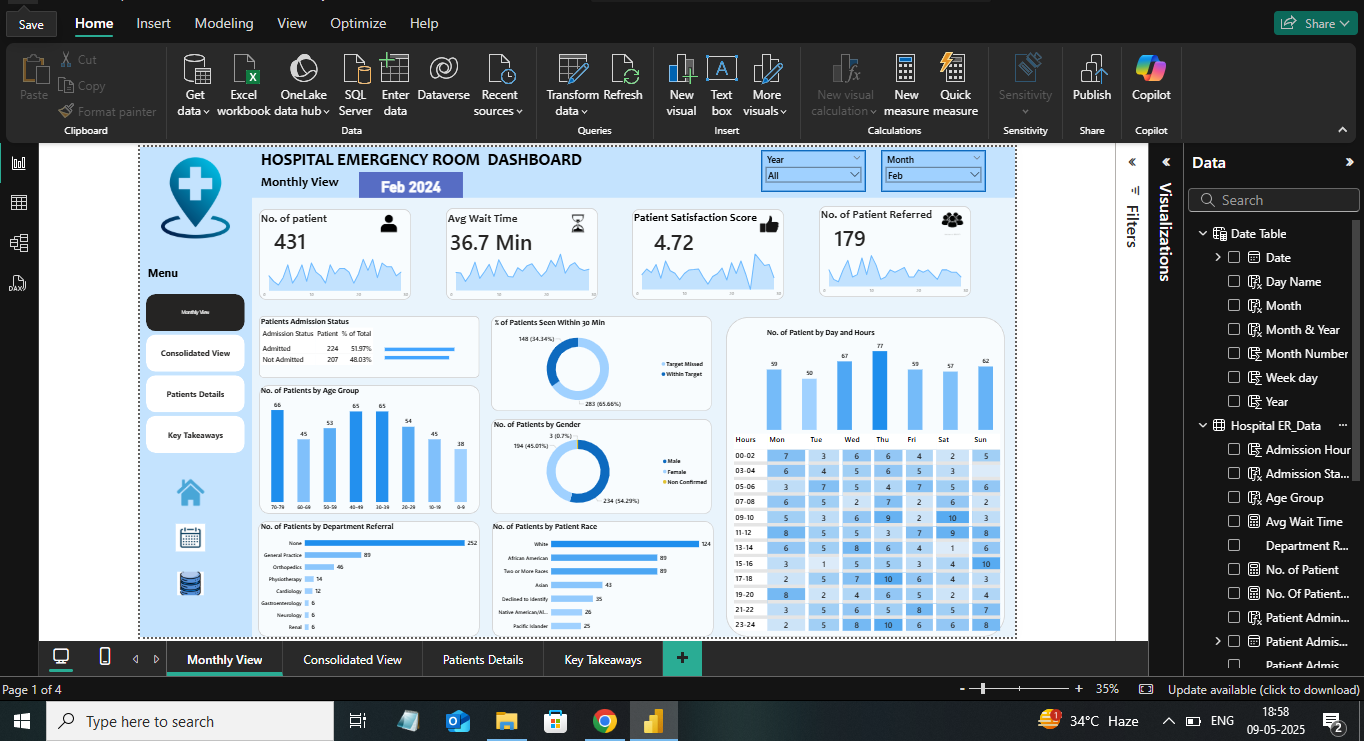

The page's visual inventory and layout, read from the dashboard file:
{"tool":"powerbi","page":{"name":"Monthly View","canvas":[2500,1400],"ordinal":0},"visuals":[{"type":"shape","box":[1674.3,485.7,797.1,914.3],"z":0},{"type":"shape","box":[0,0,320,1400],"z":1000},{"type":"shape","box":[320,0,2180,145],"z":2000},{"type":"shape","box":[1406.7,177.1,434.3,260],"z":4000},{"type":"shape","box":[340,177.1,434.3,260],"z":5000},{"type":"shape","box":[873.3,174.3,434.3,262.9],"z":6000},{"type":"card","fields":{"Values":["Hospital ER_Data.NO Of Patient"]},"box":[340,220,177.1,88.6],"z":7000},{"type":"textbox","box":[340,180,217.1,48.6],"z":9000},{"type":"areaChart","fields":{"Category":["Date Table.Date.Variation.Date Hierarchy.Day"]},"box":[320,291.4,434.3,145.7],"z":10000},{"type":"card","fields":{"Values":["Min(Date Table.Month & Year)"]},"box":[625.7,71.4,297.1,74.3],"z":12000},{"type":"card","fields":{"Values":["Hospital ER_Data.Avg. Wait Time"]},"box":[874.3,228.6,257.1,80],"z":14000},{"type":"textbox","box":[874.3,180,220,48.6],"z":15000},{"type":"card","fields":{"Values":["Hospital ER_Data.Satisfaction Score"]},"box":[1405.7,222.9,240,88.6],"z":16000},{"type":"textbox","box":[1405.7,177.1,374.3,51.4],"z":17000},{"type":"areaChart","fields":{"Y":["Hospital ER_Data.Satisfaction Score"],"Category":["Date Table.Date.Variation.Date Hierarchy.Day"]},"box":[1405.7,291.4,434.3,145.7],"z":18000},{"type":"shape","box":[1940,168.6,434.3,260],"z":19000},{"type":"card","fields":{"Values":["Hospital ER_Data.No. Of Patient Referred"]},"box":[1940,211.4,177.1,88.6],"z":20000},{"type":"textbox","box":[1940,168.6,342.9,51.4],"z":21000},{"type":"areaChart","fields":{"Category":["Date Table.Date.Variation.Date Hierarchy.Day"],"Y":["Hospital ER_Data.No. Of Patient Referred"]},"box":[1940,282.9,434.3,145.7],"z":22000},{"type":"areaChart","fields":{"Y":["Hospital ER_Data.No. of Patient"],"Category":["Date Table.Date.Variation.Date Hierarchy.Day"]},"box":[340,291.4,434.3,148.6],"z":23000},{"type":"areaChart","fields":{"Category":["Date Table.Date.Variation.Date Hierarchy.Day"],"Y":["Divide(Sum(Hospital ER_Data.Patient Waittime), ScopedEval(Sum(Hospital ER_Data.Patient Waittime), []))"]},"box":[874.3,291.4,437.1,148.6],"z":24000},{"type":"shape","box":[340,482.9,630,177],"z":25000},{"type":"pivotTable","title":"Patients Admission Status","fields":{"Rows":["Hospital ER_Data.Admission Status"],"Values":["Hospital ER_Data.No. of Patient1","Hospital ER_Data.No. of Patient"]},"box":[340,482.9,631.4,177.1],"z":26000},{"type":"shape","box":[340,680,631.4,368.6],"z":27000},{"type":"barChart","fields":{"Category":["Hospital ER_Data.Admission Status"],"Y":["Hospital ER_Data.No. of Patient"]},"box":[694.3,548.6,277.1,77.1],"z":28000},{"type":"shape","box":[337.1,1068.6,634.3,331.4],"z":29000},{"type":"clusteredColumnChart","title":"No. of Patients  by Age Group","fields":{"Category":["Hospital ER_Data.Age Group"],"Y":["Hospital ER_Data.No. of Patient"]},"box":[340,680,631.4,368.6],"z":30000},{"type":"shape","box":[1002.9,482.9,631,271],"z":31000},{"type":"clusteredBarChart","title":"No. of Patients by Department Referral","fields":{"Category":["Hospital ER_Data.Department Referral"],"Y":["Hospital ER_Data.No. of Patient"]},"box":[340,1068.6,631.4,331.4],"z":32000},{"type":"donutChart","title":"% of Patients Seen Within 30 Min","fields":{"Y":["Hospital ER_Data.No. of Patient"],"Category":["Hospital ER_Data.Waittime Status"]},"box":[1008.6,485.7,614.3,268.6],"z":33000},{"type":"shape","box":[1002.9,777.1,631.4,271.4],"z":34000},{"type":"shape","box":[1005.7,1068.6,634.3,331.4],"z":35000},{"type":"donutChart","title":"No. of Patients by Gender","fields":{"Y":["Hospital ER_Data.No. of Patient"],"Category":["Hospital ER_Data.Patient Gender"]},"box":[1005.7,777.1,628.6,271.4],"z":36000},{"type":"clusteredBarChart","title":"No. of Patients by Patient Race","fields":{"Y":["Hospital ER_Data.No. of Patient"],"Category":["Hospital ER_Data.Patient Race"]},"box":[1002.9,1068.6,634.3,331.4],"z":37000},{"type":"pivotTable","fields":{"Rows":["Hospital ER_Data.Waittime Interval"],"Columns":["Date Table.Day Name"],"Values":["Hospital ER_Data.No. of Patient"]},"box":[1691.4,814.3,780,585.7],"z":38000},{"type":"columnChart","title":"No. of Patient by Day and Hours","fields":{"Category":["Date Table.Day Name"],"Y":["Hospital ER_Data.No. of Patient"]},"box":[1785.7,514.3,660,300],"z":38001},{"type":"textbox","box":[340,0,942.9,71.4],"z":38002},{"type":"textbox","box":[340,71.4,285.7,74.3],"z":38003},{"type":"image","box":[37.1,22.9,242.9,245.7],"z":38004},{"type":"slicer","fields":{"Values":["Date Table.Year"]},"box":[1774.3,8.6,300,120],"z":38005},{"type":"slicer","fields":{"Values":["Date Table.Month"]},"box":[2117.1,8.6,300,120],"z":38006},{"type":"pageNavigator","box":[17.1,420,282.9,454.3],"z":38007},{"type":"textbox","box":[17.1,331.4,117.1,54.3],"z":38008},{"type":"image","box":[77.1,925.7,134.3,122.9],"z":38009},{"type":"image","box":[97.1,1068.6,94.3,94.3],"z":38010},{"type":"image","box":[97.1,1208.6,94.3,77.1],"z":38011},{"type":"image","box":[1757.1,180,82.9,80],"z":38014},{"type":"image","box":[668.6,180,85.7,82.9],"z":38015},{"type":"image","box":[1205.7,174.3,91.4,88.6],"z":38016},{"type":"image","box":[2268.6,165.7,105.7,91.4],"z":38017}]}

Visuals, with their boxes on the page's 2500x1400 design canvas (x1, y1, x2, y2). These are canvas units, not pixel positions in the 1364x741 screenshot, which may show the page scaled, cropped or inside an application window:
shape: [left=1674, top=486, right=2471, bottom=1400]
shape: [left=0, top=0, right=320, bottom=1400]
shape: [left=320, top=0, right=2500, bottom=145]
shape: [left=1407, top=177, right=1841, bottom=437]
shape: [left=340, top=177, right=774, bottom=437]
shape: [left=873, top=174, right=1308, bottom=437]
card - Hospital ER_Data.NO Of Patient: [left=340, top=220, right=517, bottom=309]
textbox: [left=340, top=180, right=557, bottom=229]
areaChart - Date Table.Date.Variation.Date Hierarchy.Day: [left=320, top=291, right=754, bottom=437]
card - Min(Date Table.Month & Year): [left=626, top=71, right=923, bottom=146]
card - Hospital ER_Data.Avg. Wait Time: [left=874, top=229, right=1131, bottom=309]
textbox: [left=874, top=180, right=1094, bottom=229]
card - Hospital ER_Data.Satisfaction Score: [left=1406, top=223, right=1646, bottom=312]
textbox: [left=1406, top=177, right=1780, bottom=228]
areaChart - Hospital ER_Data.Satisfaction Score x Date Table.Date.Variation.Date Hierarchy.Day: [left=1406, top=291, right=1840, bottom=437]
shape: [left=1940, top=169, right=2374, bottom=429]
card - Hospital ER_Data.No. Of Patient Referred: [left=1940, top=211, right=2117, bottom=300]
textbox: [left=1940, top=169, right=2283, bottom=220]
areaChart - Date Table.Date.Variation.Date Hierarchy.Day x Hospital ER_Data.No. Of Patient Referred: [left=1940, top=283, right=2374, bottom=429]
areaChart - Hospital ER_Data.No. of Patient x Date Table.Date.Variation.Date Hierarchy.Day: [left=340, top=291, right=774, bottom=440]
areaChart - Date Table.Date.Variation.Date Hierarchy.Day x Divide(Sum(Hospital ER_Data.Patient Waittime), ScopedEval(Sum(Hospital ER_Data.Patient Waittime), [])): [left=874, top=291, right=1311, bottom=440]
shape: [left=340, top=483, right=970, bottom=660]
"Patients Admission Status" pivotTable: [left=340, top=483, right=971, bottom=660]
shape: [left=340, top=680, right=971, bottom=1049]
barChart - Hospital ER_Data.Admission Status x Hospital ER_Data.No. of Patient: [left=694, top=549, right=971, bottom=626]
shape: [left=337, top=1069, right=971, bottom=1400]
"No. of Patients  by Age Group" clusteredColumnChart: [left=340, top=680, right=971, bottom=1049]
shape: [left=1003, top=483, right=1634, bottom=754]
"No. of Patients by Department Referral" clusteredBarChart: [left=340, top=1069, right=971, bottom=1400]
"% of Patients Seen Within 30 Min" donutChart: [left=1009, top=486, right=1623, bottom=754]
shape: [left=1003, top=777, right=1634, bottom=1048]
shape: [left=1006, top=1069, right=1640, bottom=1400]
"No. of Patients by Gender" donutChart: [left=1006, top=777, right=1634, bottom=1048]
"No. of Patients by Patient Race" clusteredBarChart: [left=1003, top=1069, right=1637, bottom=1400]
pivotTable - Hospital ER_Data.Waittime Interval x Date Table.Day Name: [left=1691, top=814, right=2471, bottom=1400]
"No. of Patient by Day and Hours" columnChart: [left=1786, top=514, right=2446, bottom=814]
textbox: [left=340, top=0, right=1283, bottom=71]
textbox: [left=340, top=71, right=626, bottom=146]
image: [left=37, top=23, right=280, bottom=269]
slicer - Date Table.Year: [left=1774, top=9, right=2074, bottom=129]
slicer - Date Table.Month: [left=2117, top=9, right=2417, bottom=129]
pageNavigator: [left=17, top=420, right=300, bottom=874]
textbox: [left=17, top=331, right=134, bottom=386]
image: [left=77, top=926, right=211, bottom=1049]
image: [left=97, top=1069, right=191, bottom=1163]
image: [left=97, top=1209, right=191, bottom=1286]
image: [left=1757, top=180, right=1840, bottom=260]
image: [left=669, top=180, right=754, bottom=263]
image: [left=1206, top=174, right=1297, bottom=263]
image: [left=2269, top=166, right=2374, bottom=257]
